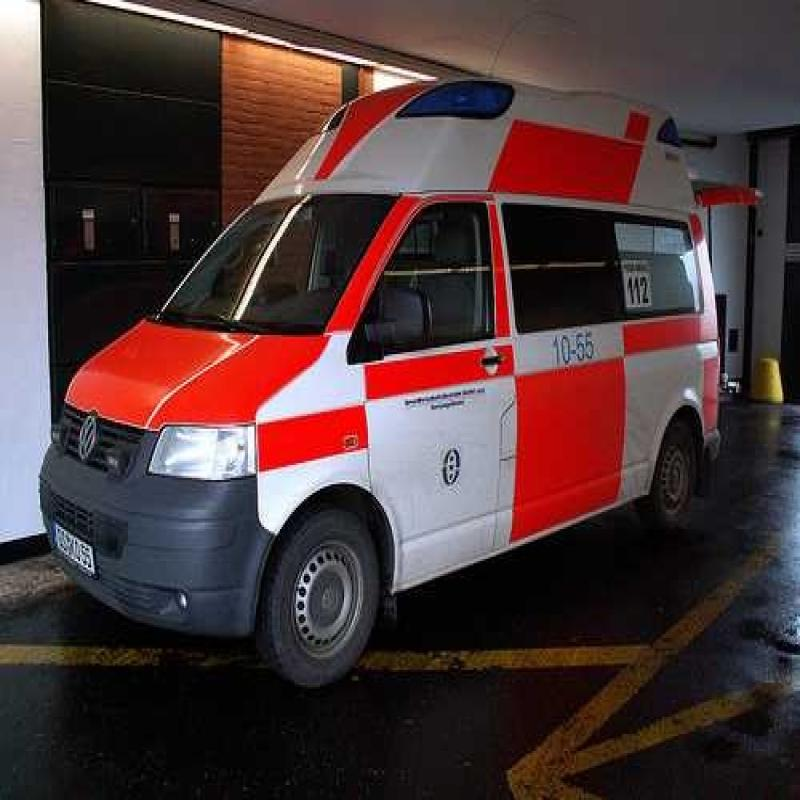AmbulanceSiren: (325, 80, 515, 147)
